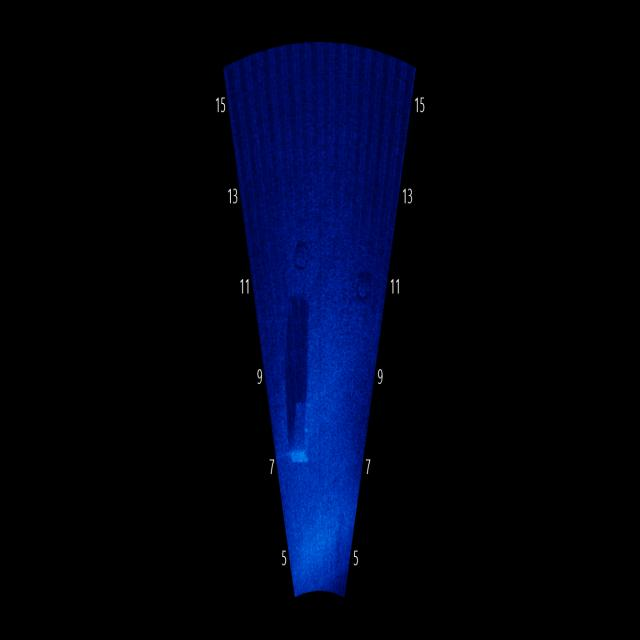square: (278, 383, 320, 471)
